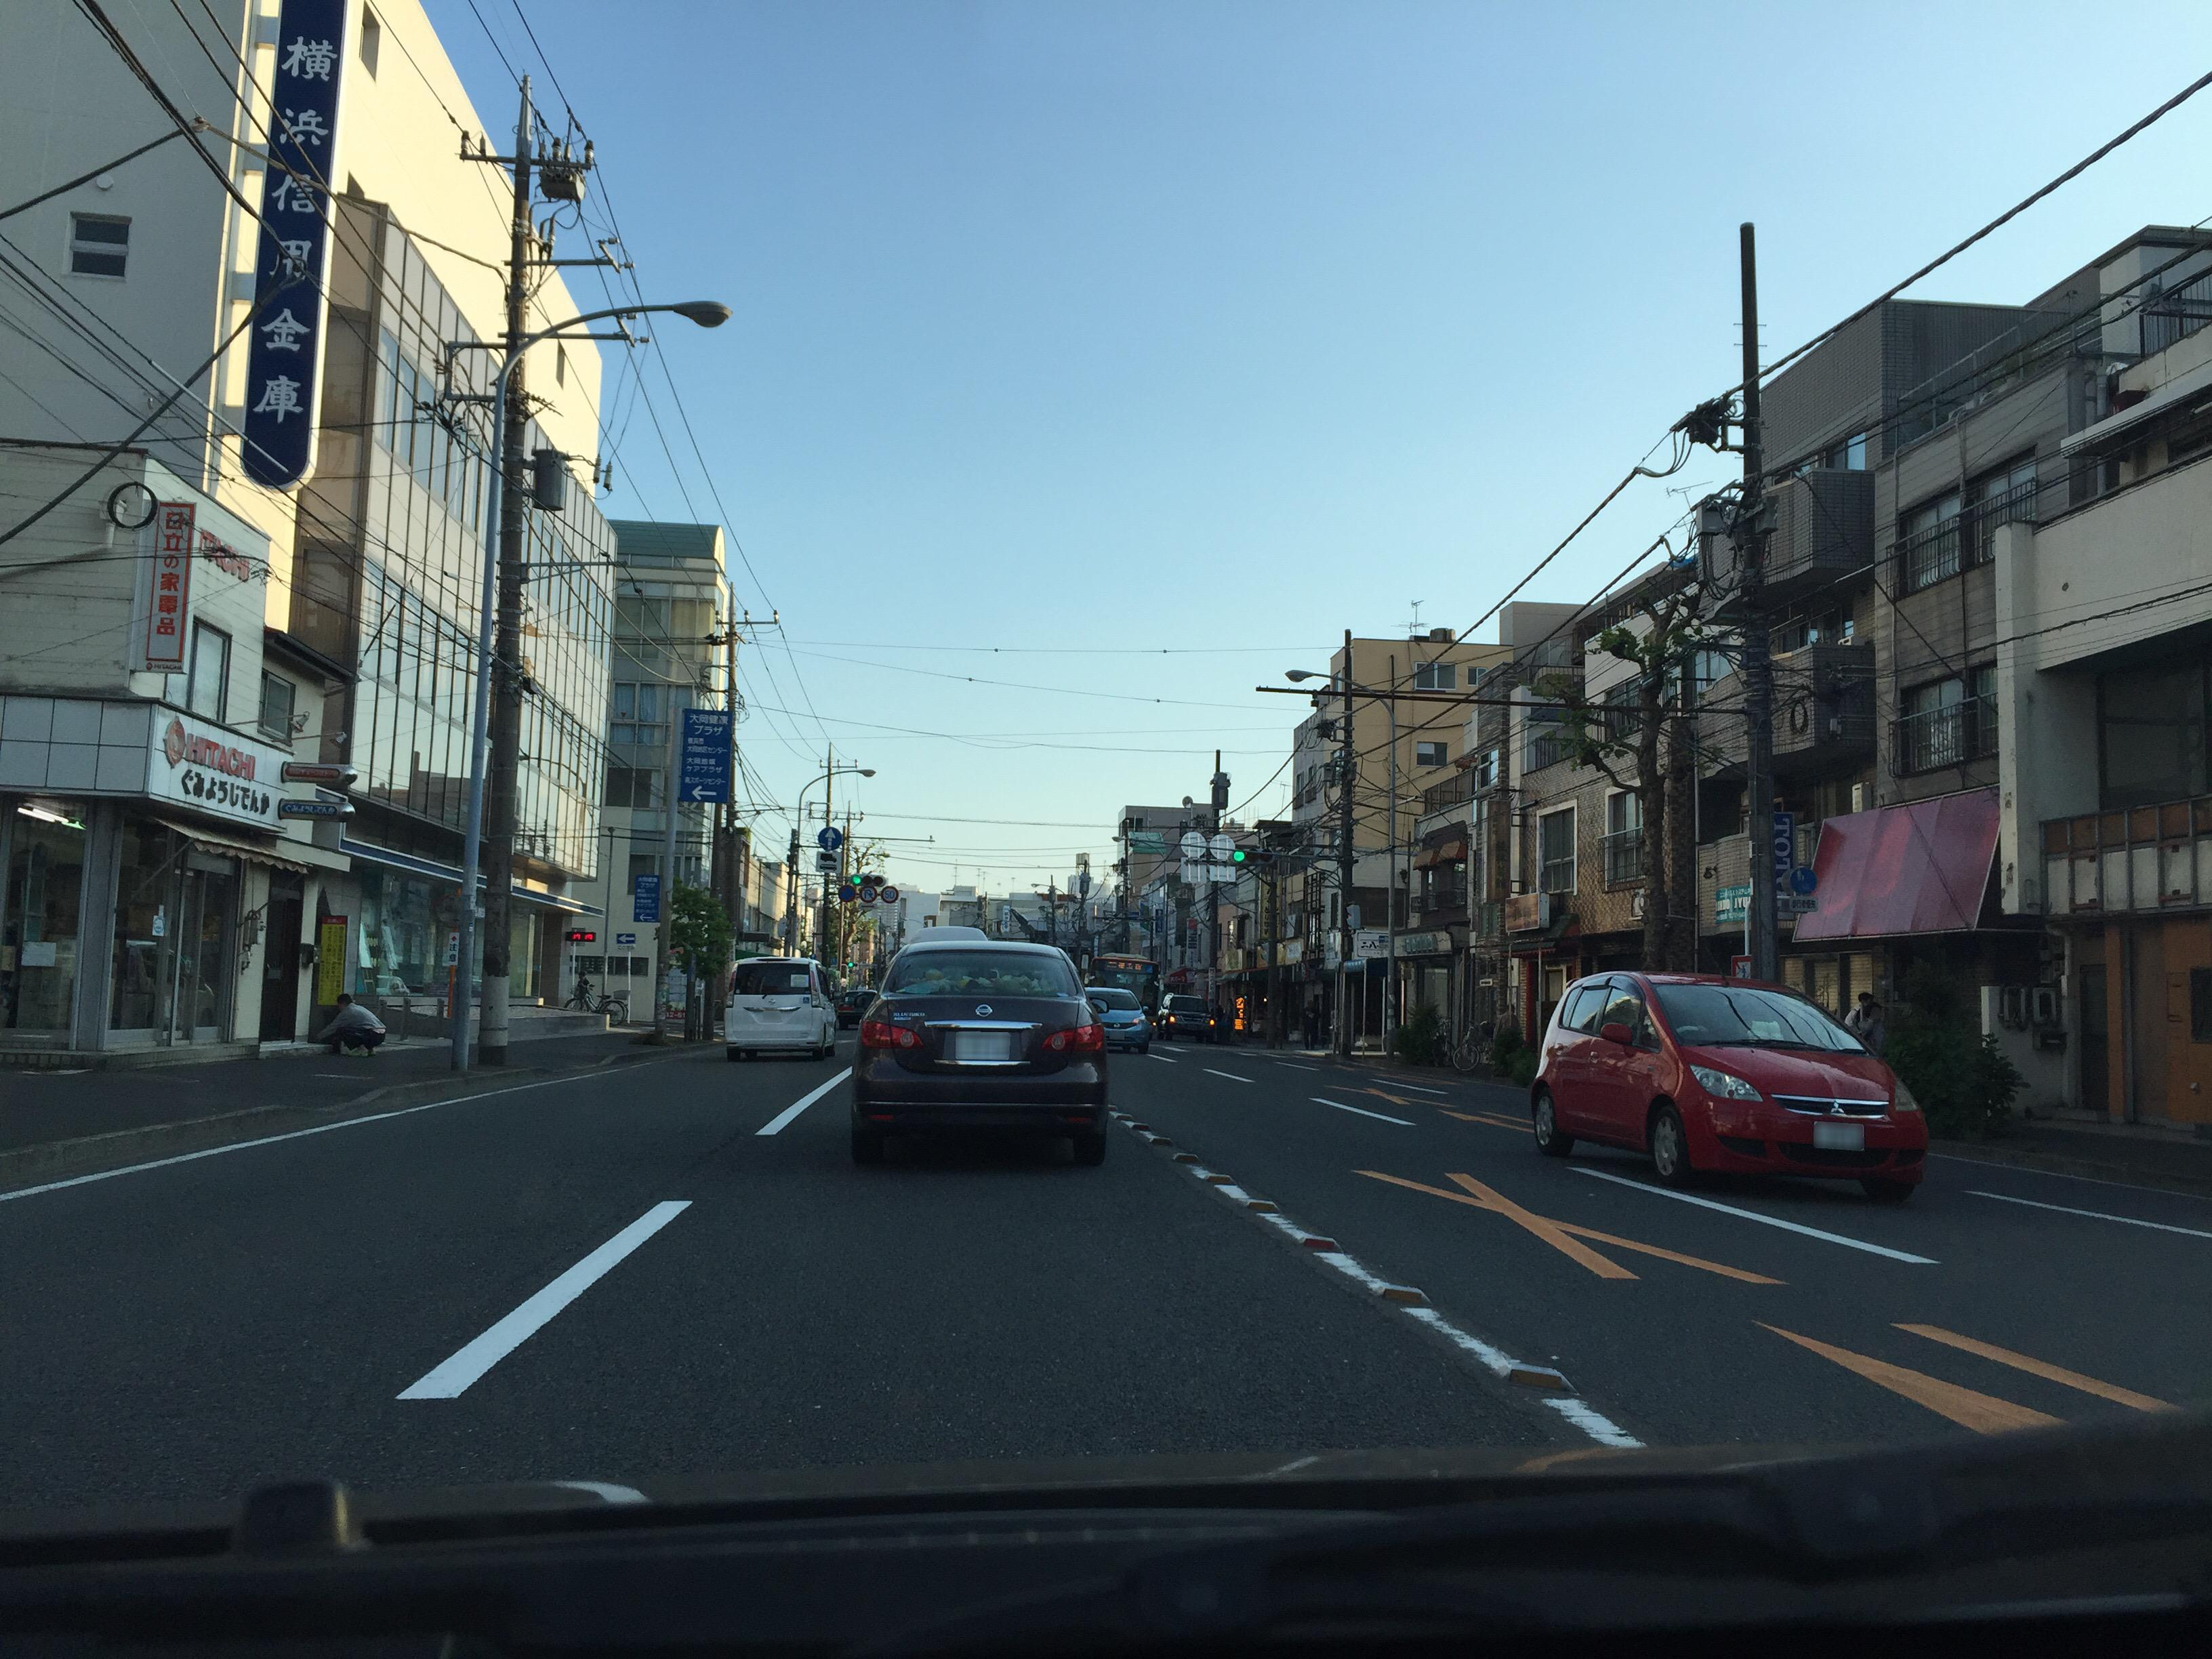vinyl banner: (1794, 786, 2017, 951)
